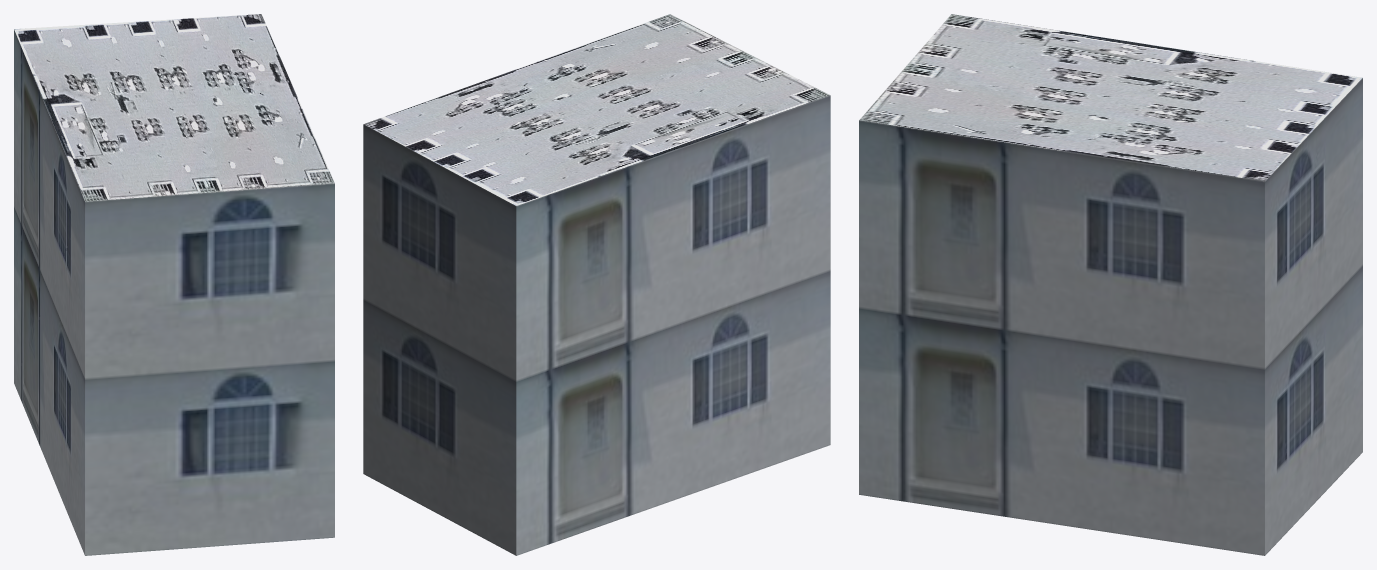
The model's file is ResTex__2476.fbx.
The picture shows the model from 3 angles, left to right: view 1: azimuth 30°, elevation 25°; view 2: azimuth 150°, elevation 25°; view 3: azimuth 270°, elevation 25°; orthographic projection. The views are drawn at different scales.
Visible parts, largest first — view 1: CityEngineMaterial_17_m, CityEngineMaterial_8_m; view 2: CityEngineMaterial_17_m, CityEngineMaterial_8_m; view 3: CityEngineMaterial_17_m, CityEngineMaterial_8_m.
Boxes of the visible parts, left/top/right/bottom form: CityEngineMaterial_17_m: left=14, top=29, right=334, bottom=555; CityEngineMaterial_8_m: left=14, top=14, right=334, bottom=201; CityEngineMaterial_17_m: left=363, top=95, right=830, bottom=555; CityEngineMaterial_8_m: left=364, top=14, right=829, bottom=205; CityEngineMaterial_17_m: left=859, top=78, right=1362, bottom=555; CityEngineMaterial_8_m: left=859, top=14, right=1362, bottom=181.
Size of the model in its own units: 5.75 by 6 by 7.32.
2 materials, 2 textured.
